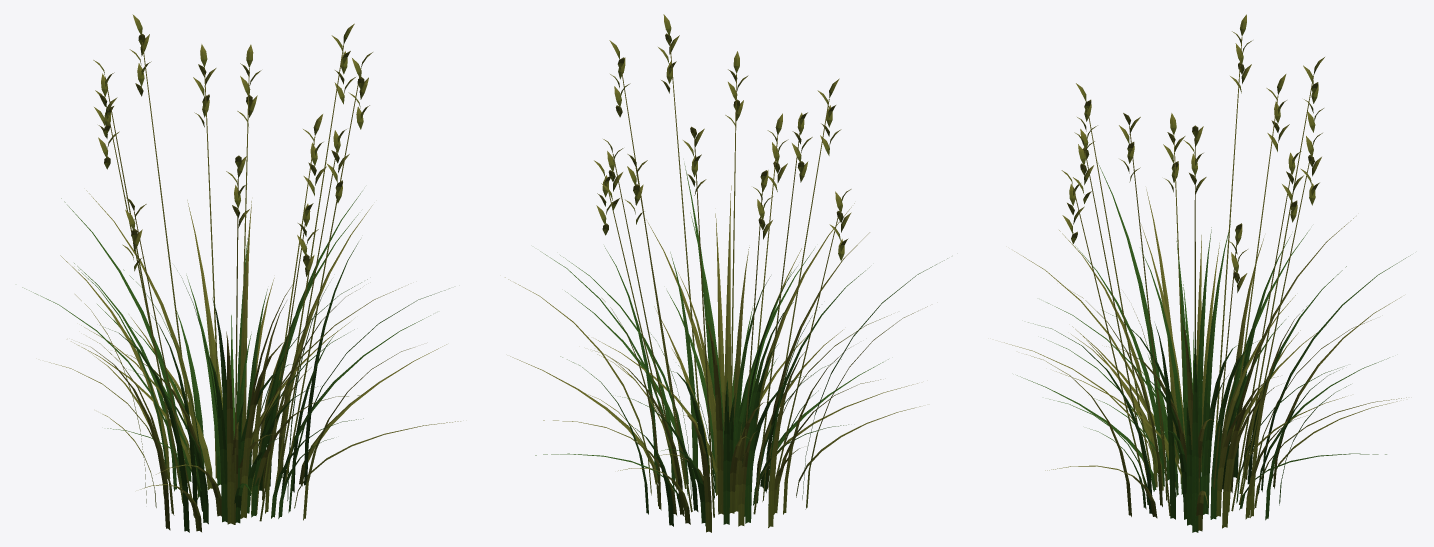
File: CoastalGrass_A.fbx
The picture shows the model from 3 angles, left to right: view 1: azimuth 30°, elevation 25°; view 2: azimuth 150°, elevation 25°; view 3: azimuth 270°, elevation 25°; orthographic projection. The views are drawn at different scales.
Parts seen in each view (by area): view 1: CoastalGrass_A_LOD0; view 2: CoastalGrass_A_LOD0; view 3: CoastalGrass_A_LOD0.
Part boxes in pixels (<box>): CoastalGrass_A_LOD0: <box>22,14,460,532</box>; CoastalGrass_A_LOD0: <box>505,14,947,532</box>; CoastalGrass_A_LOD0: <box>1004,14,1410,532</box>.
Size of what is drawn, in the model's own units: 1.11 by 1.14 by 1.02.
